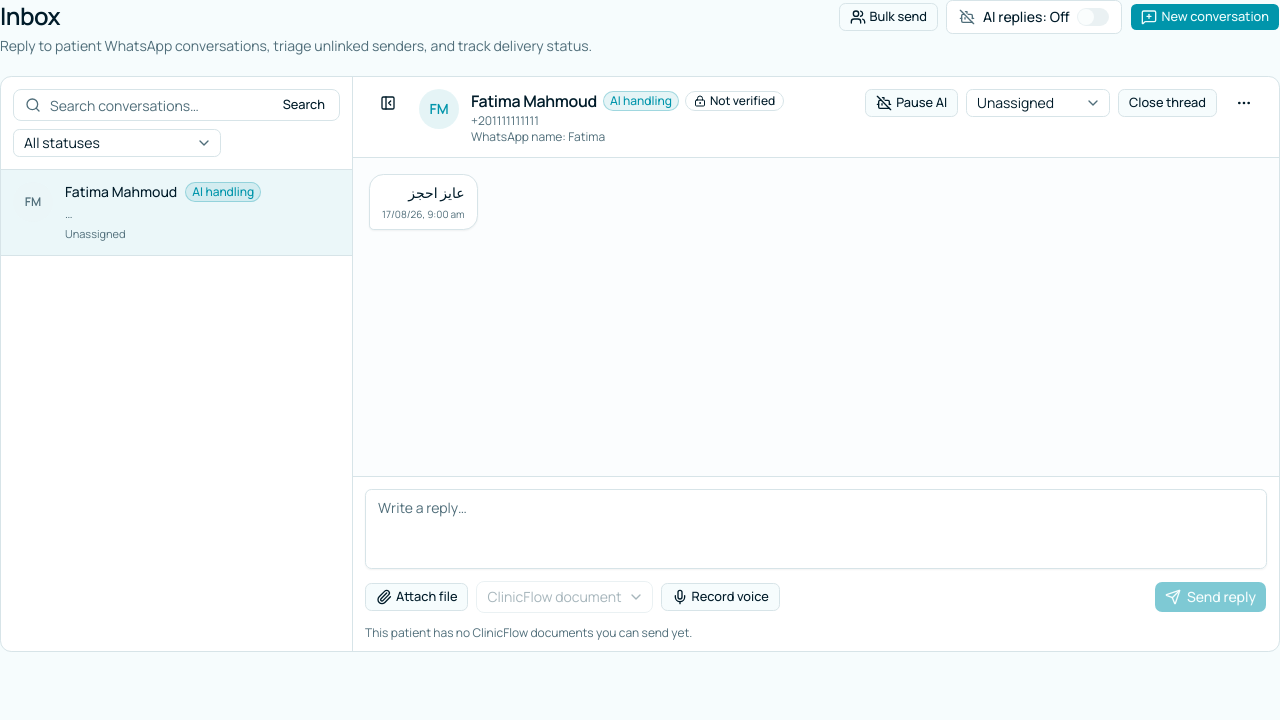
Test: P12 · past appointments from inside the thread › shows the empty state, not an error, when there is no history
Step 1. Click the button with test id "conversation-more-actions" → (1244, 103), box 1225,89 -> 1263,117
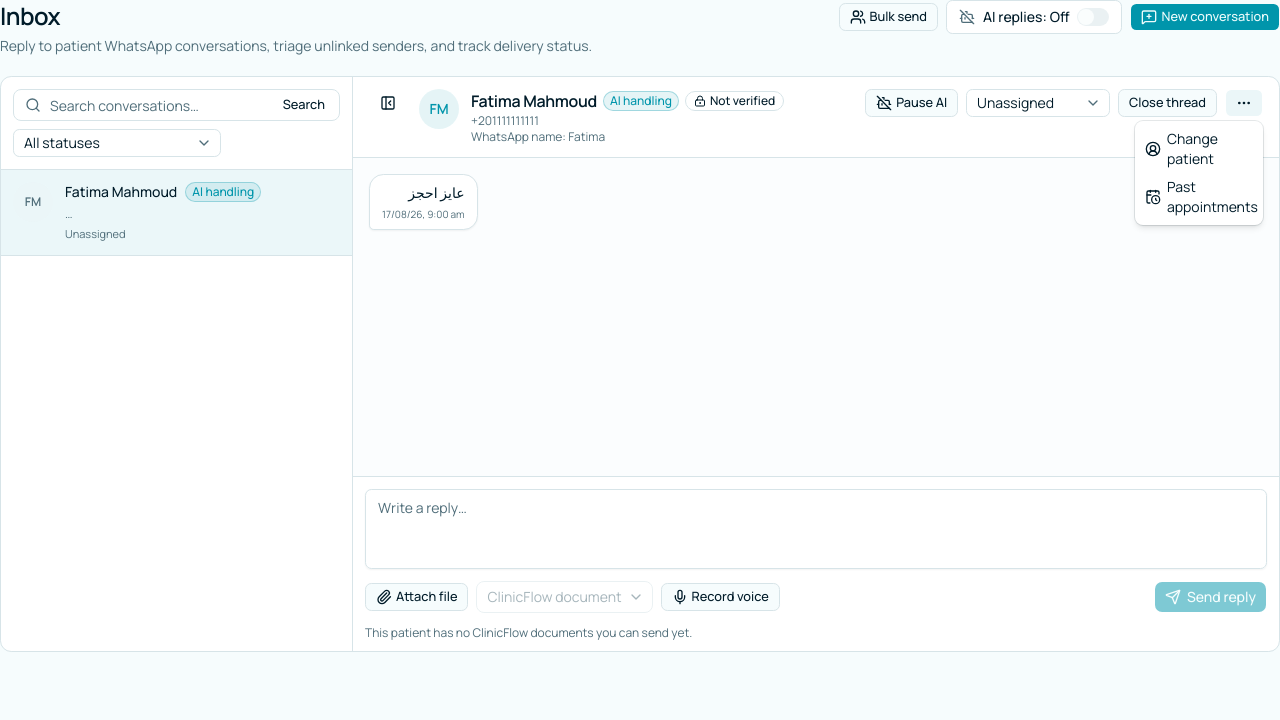
Step 2. Click the menu item with test id "past-appointments-trigger" → (1199, 197), box 1139,173 -> 1259,221
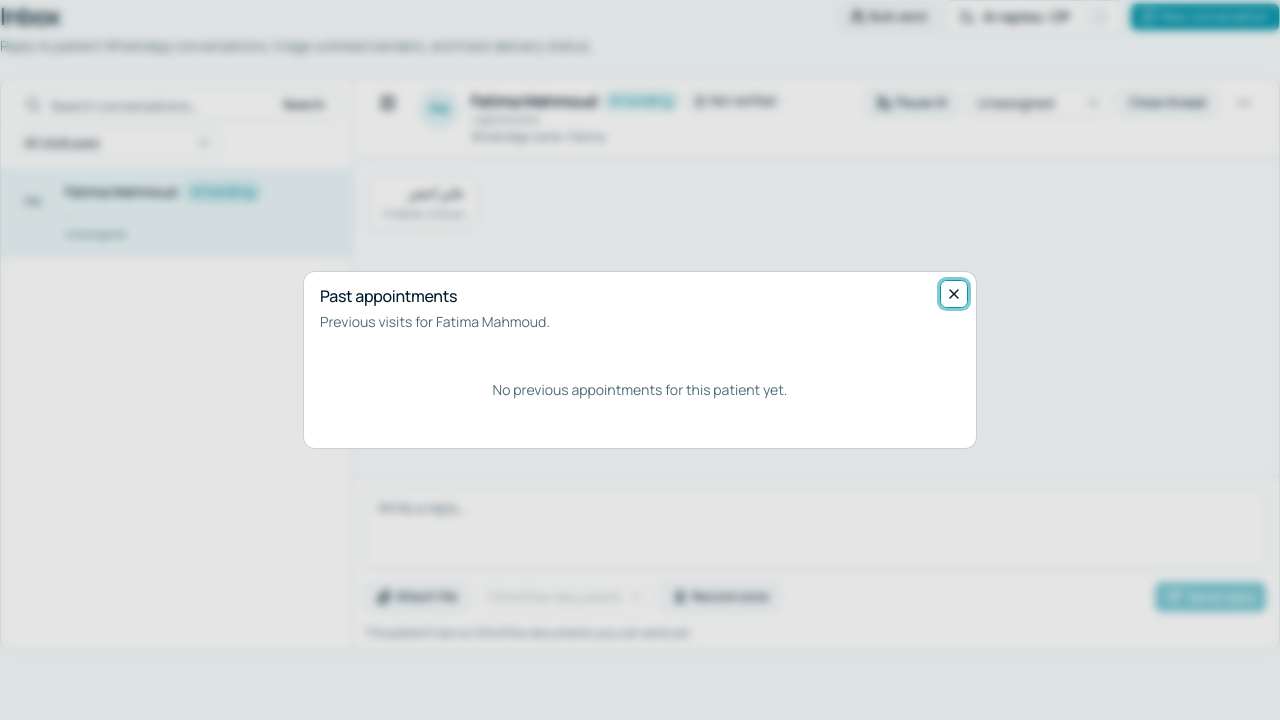
Expected: the text "No previous appointments for this patient yet." is shown, 493,380 -> 787,399
